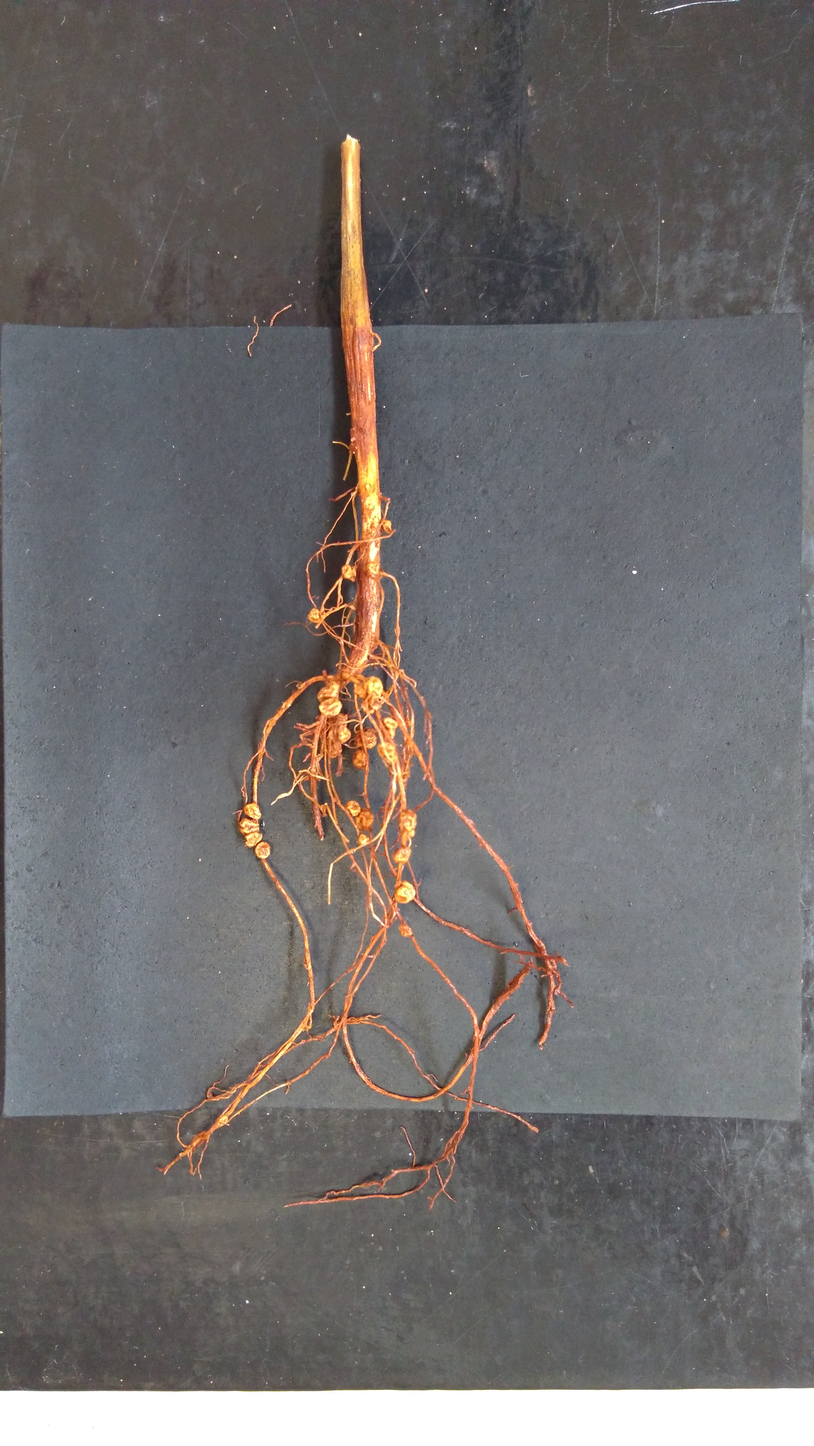nodule: (397, 808, 419, 846), (392, 879, 419, 908), (375, 741, 400, 769), (359, 675, 385, 700), (314, 680, 341, 703), (235, 816, 263, 837), (390, 845, 415, 867), (380, 715, 402, 740), (317, 698, 345, 717), (354, 808, 375, 833), (325, 711, 348, 730), (351, 749, 368, 774), (242, 801, 264, 820), (252, 841, 274, 860), (242, 831, 263, 850), (325, 740, 345, 759), (362, 727, 378, 750), (340, 563, 358, 583), (335, 725, 352, 746), (345, 799, 361, 819), (306, 606, 321, 627), (396, 922, 414, 939), (360, 698, 376, 716), (355, 833, 372, 849), (353, 683, 368, 700), (380, 517, 395, 533), (368, 696, 385, 710), (365, 562, 381, 576)
